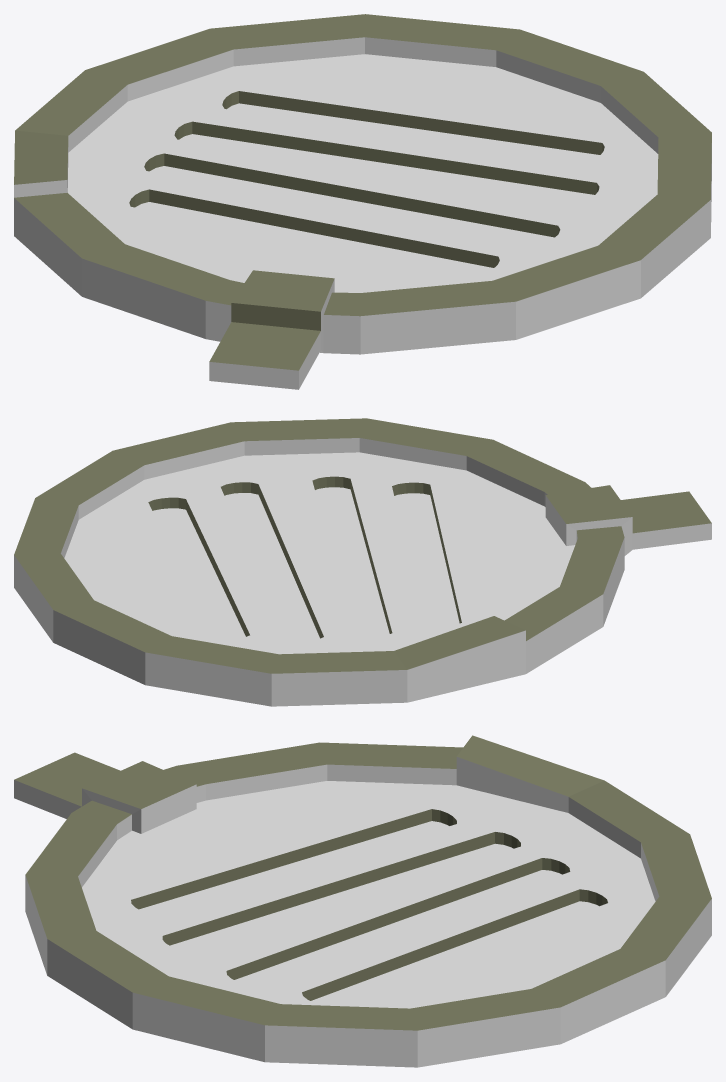
File: Grate1.fbx
3 renders of one model, top to bottom at view 1: azimuth 30°, elevation 25°; view 2: azimuth 150°, elevation 25°; view 3: azimuth 270°, elevation 25°, orthographic. The views are drawn at different scales.
Parts seen in each view (by area): view 1: Circle.001; view 2: Circle.001; view 3: Circle.001.
Boxes of the visible parts, box(x1,y1,x2,y2) form: Circle.001: box(14, 14, 711, 389); Circle.001: box(14, 418, 711, 706); Circle.001: box(14, 735, 711, 1067).
Bounding box in the file's own units: 82.71 × 6.6 × 84.67.
